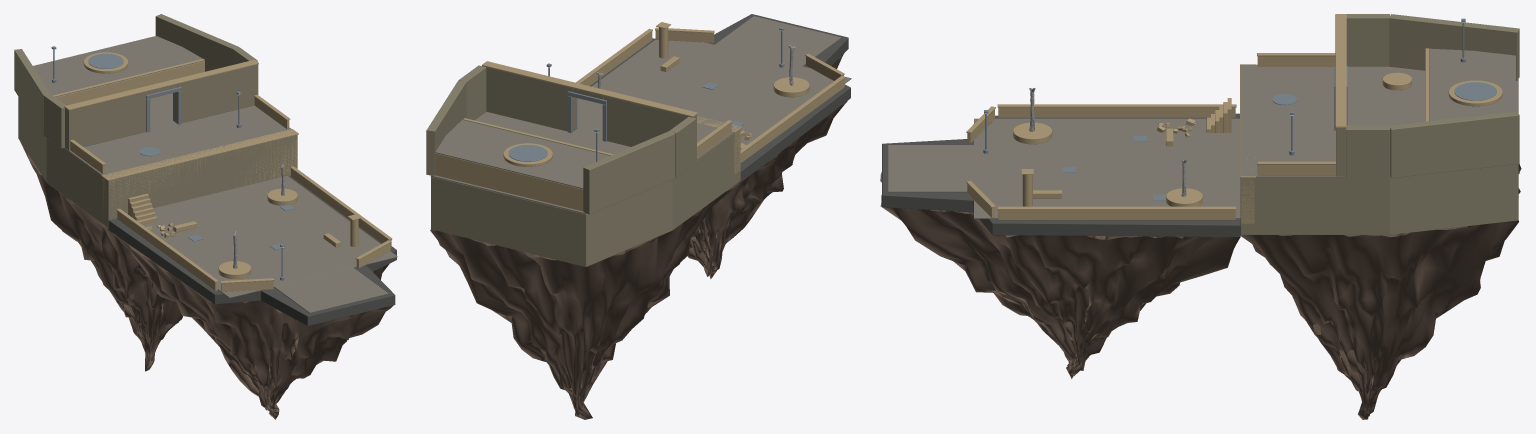
File: b_terraces.glb
3 views of the same model, side by side, from view 1: azimuth 30°, elevation 25°; view 2: azimuth 150°, elevation 25°; view 3: azimuth 270°, elevation 25° (orthographic). The views are drawn at different scales.
Parts seen in each view (by area): view 1: island_b_terraces, chunk_garden; view 2: island_b_terraces, chunk_garden; view 3: island_b_terraces, chunk_garden.
Part boxes in pixels (x1=…): island_b_terraces: x1=14, y1=14, x2=298, y2=371; chunk_garden: x1=108, y1=163, x2=397, y2=419; island_b_terraces: x1=426, y1=61, x2=741, y2=419; chunk_garden: x1=576, y1=14, x2=851, y2=279; island_b_terraces: x1=1240, y1=14, x2=1521, y2=419; chunk_garden: x1=880, y1=88, x2=1240, y2=378.
Bounding box in the file's own units: 22.4 × 33.27 × 52.38.
